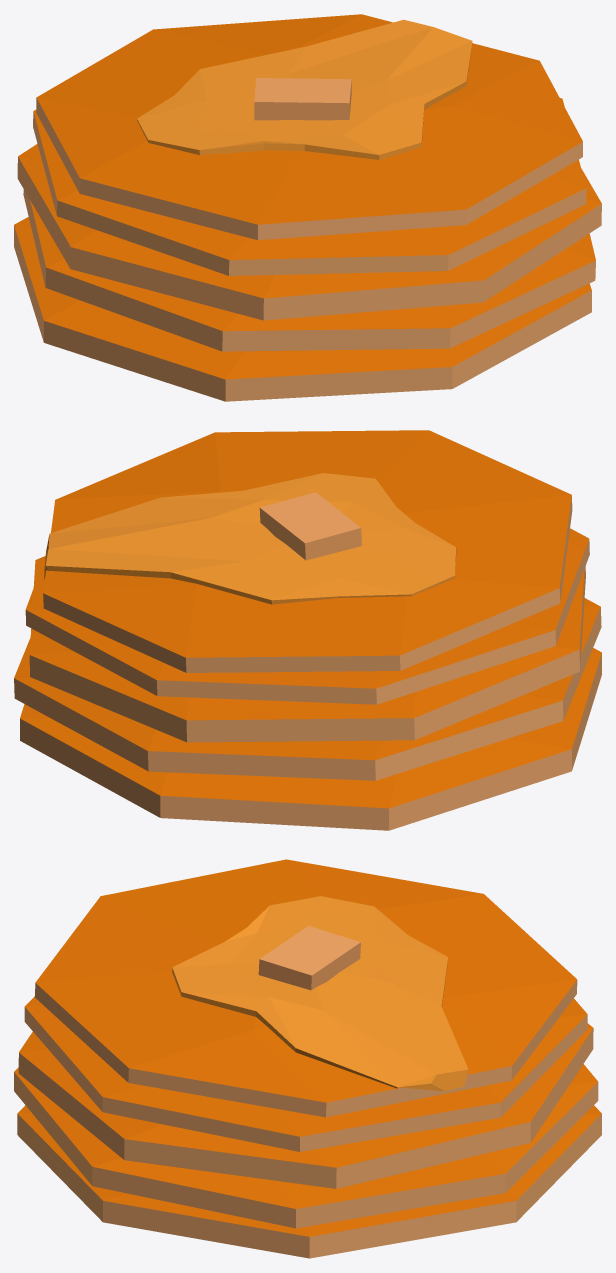
Rendered from Pancakes_01.fbx.
3 renders of one model, top to bottom at view 1: azimuth 30°, elevation 25°; view 2: azimuth 150°, elevation 25°; view 3: azimuth 270°, elevation 25°, orthographic. The views are drawn at different scales.
Parts seen in each view (by area): view 1: Pancakes_01; view 2: Pancakes_01; view 3: Pancakes_01.
Part boxes in pixels (box(x1,y1,x2,y2)): Pancakes_01: box(14, 14, 601, 401); Pancakes_01: box(14, 430, 601, 830); Pancakes_01: box(14, 859, 601, 1258).
Size of the model in its own units: 21.92 by 8.18 by 21.83.
